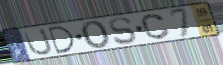7: (168, 7, 190, 39)
C: (140, 13, 172, 41)
D: (46, 25, 77, 55)
O: (79, 20, 112, 50)
S: (107, 16, 138, 46)
U: (22, 27, 54, 57)
